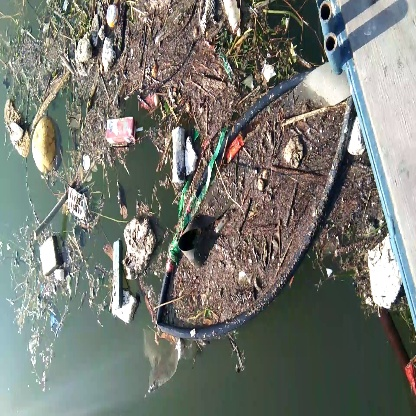ball: (30, 117, 63, 176)
milk-box: (102, 113, 140, 150)
